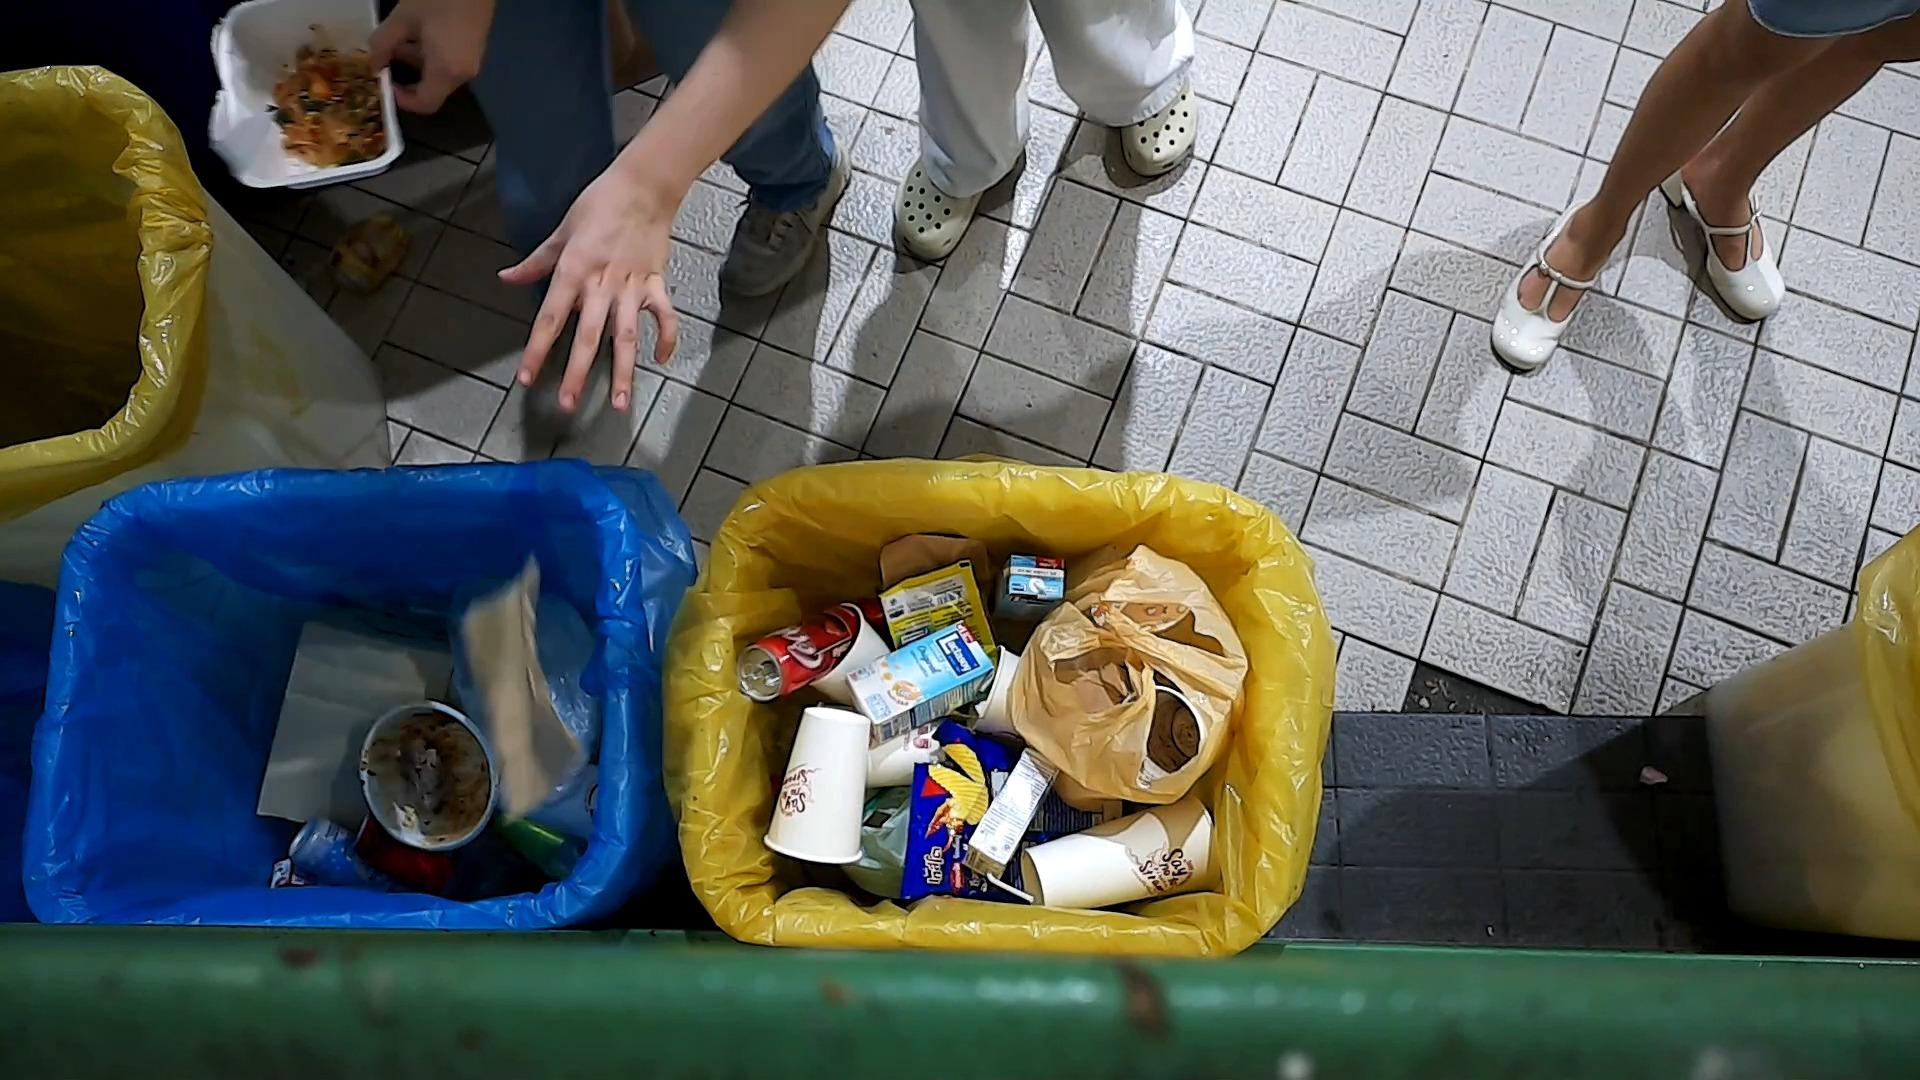can: (733, 600, 864, 704), (349, 806, 468, 898), (285, 812, 404, 895), (487, 808, 585, 884)
dirty food container: (200, 0, 415, 202), (355, 696, 504, 855)
filled plastic bag: (1006, 541, 1255, 816)
milk carton: (840, 620, 1000, 748), (959, 744, 1062, 903), (993, 551, 1068, 630)
paper bag: (249, 617, 458, 847), (454, 543, 589, 835)
snack packaging: (874, 556, 1002, 678)
zero waste cup: (1015, 795, 1226, 914), (758, 704, 874, 870)
